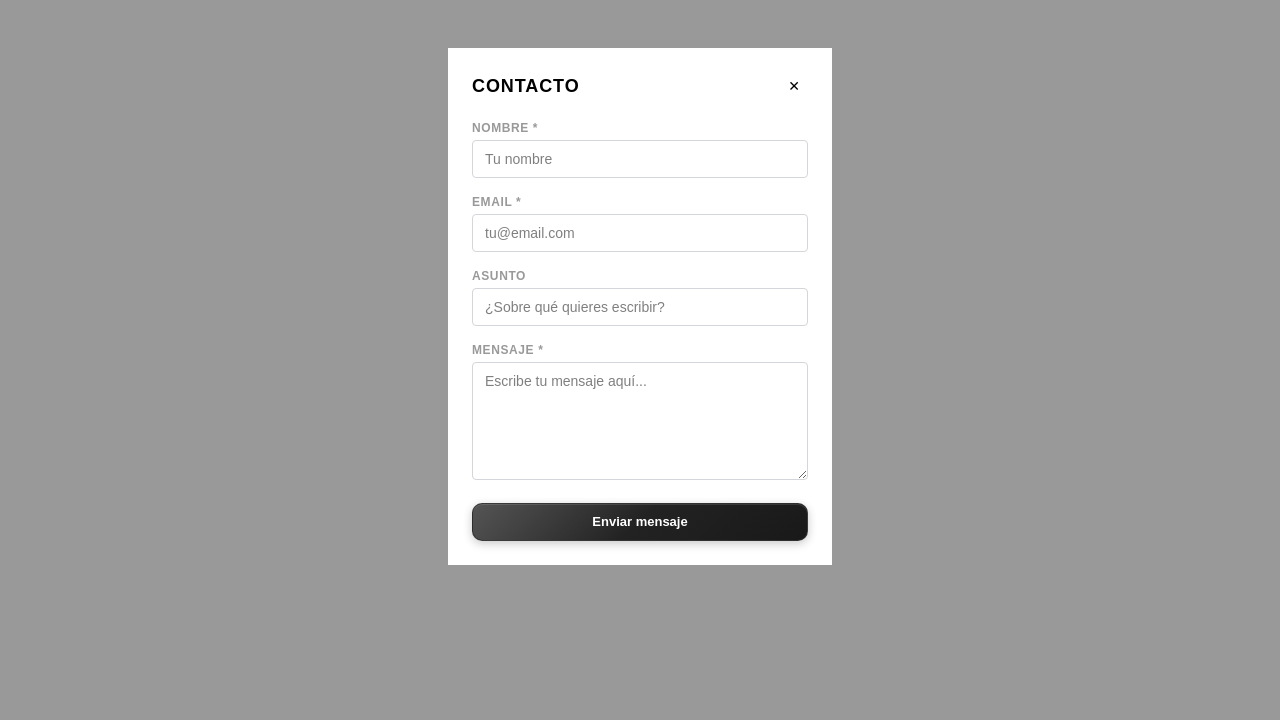
Test case: ContactModal component › shows error message when fetch fails
The width and height of the screenshot is (1280, 720).
Type "Juan Pérez" into the field with placeholder "Tu nombre" at (640, 159), box [472,140,808,178]
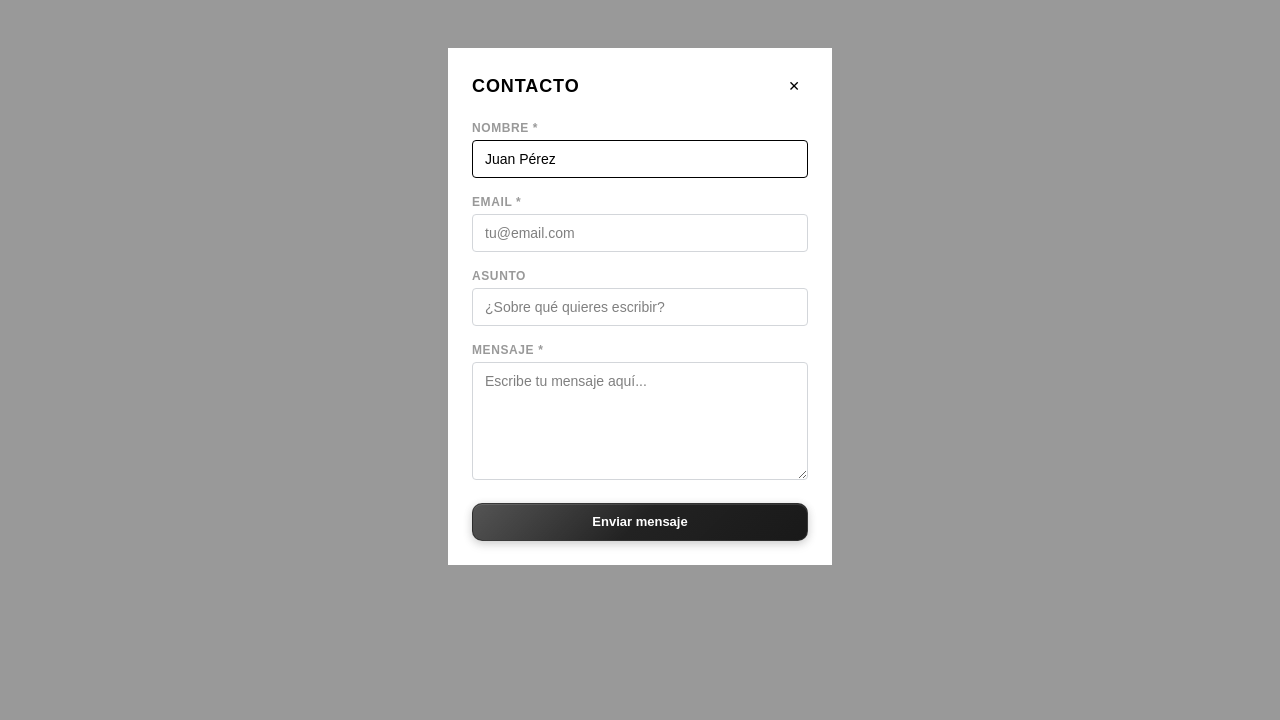
Type "juan@example.com" into the field with placeholder "tu@email.com" at (640, 233), box [472,214,808,252]
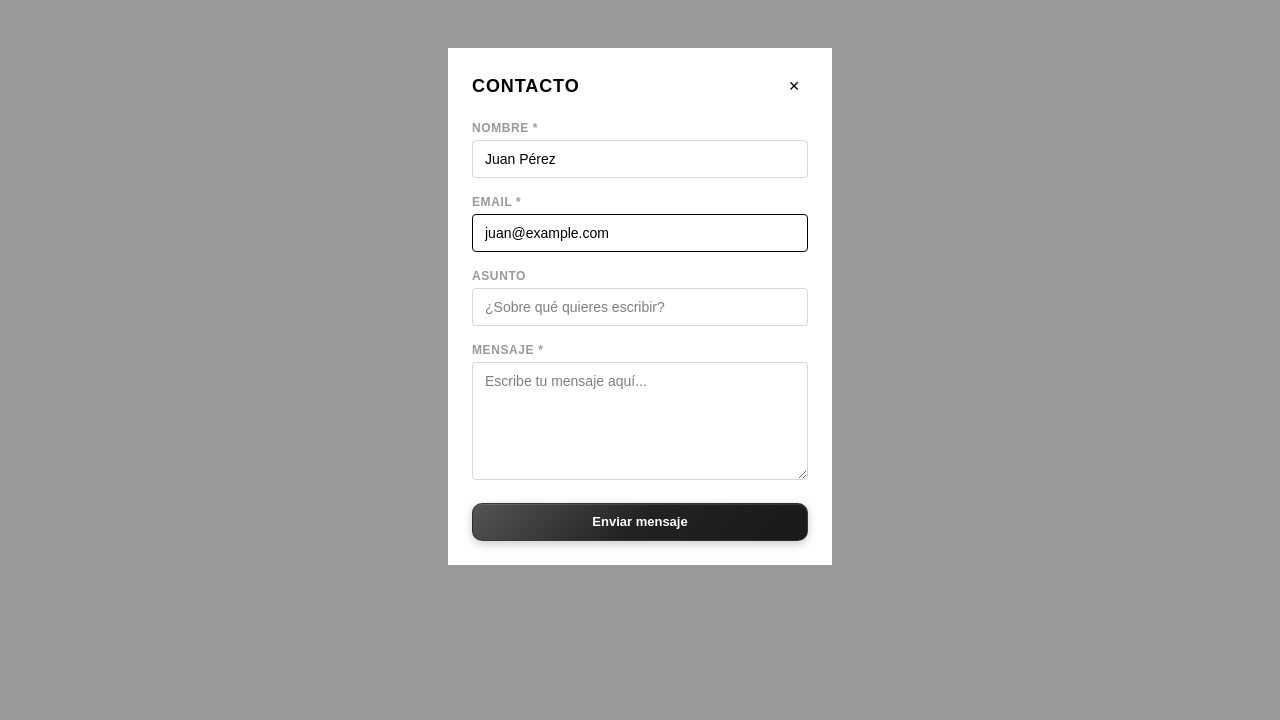
Type "Hola, me gusta el juego. Muy buen trabajo." into the text box with placeholder "Escribe tu mensaje aquí..." at (640, 421), box [472,362,808,480]
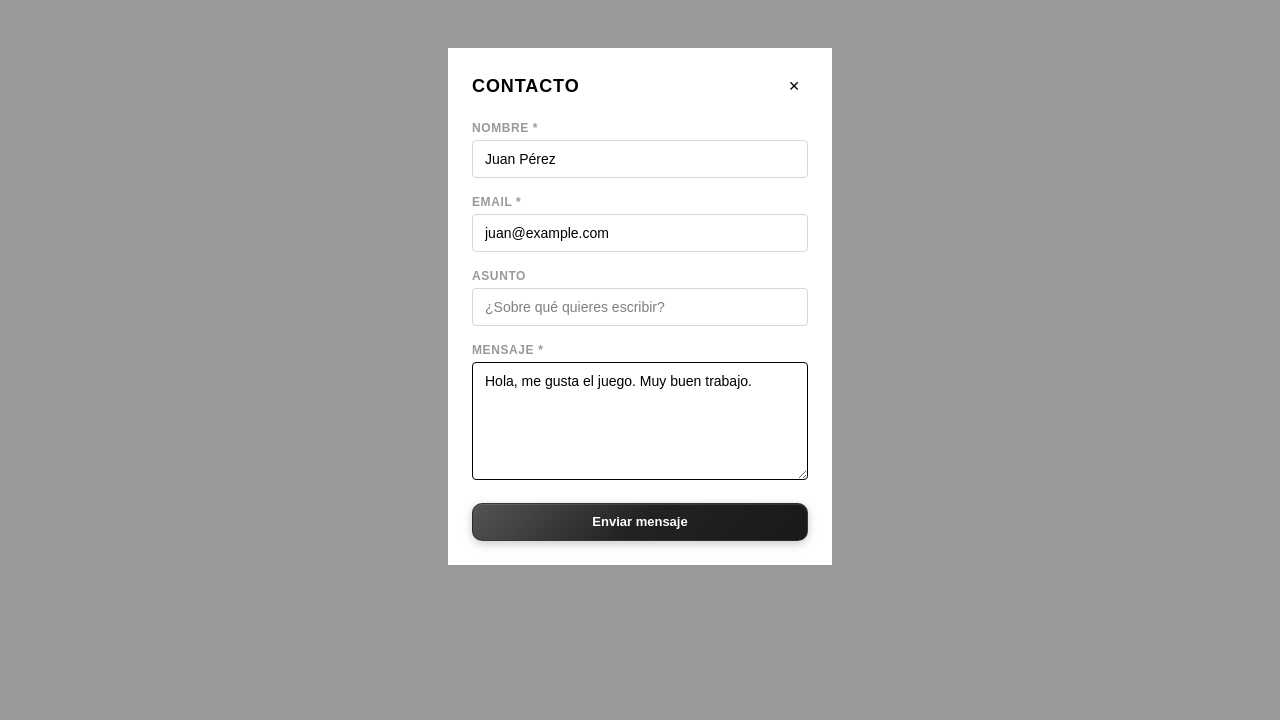
Click the button "Enviar mensaje" at (640, 522), box [472,503,808,540]
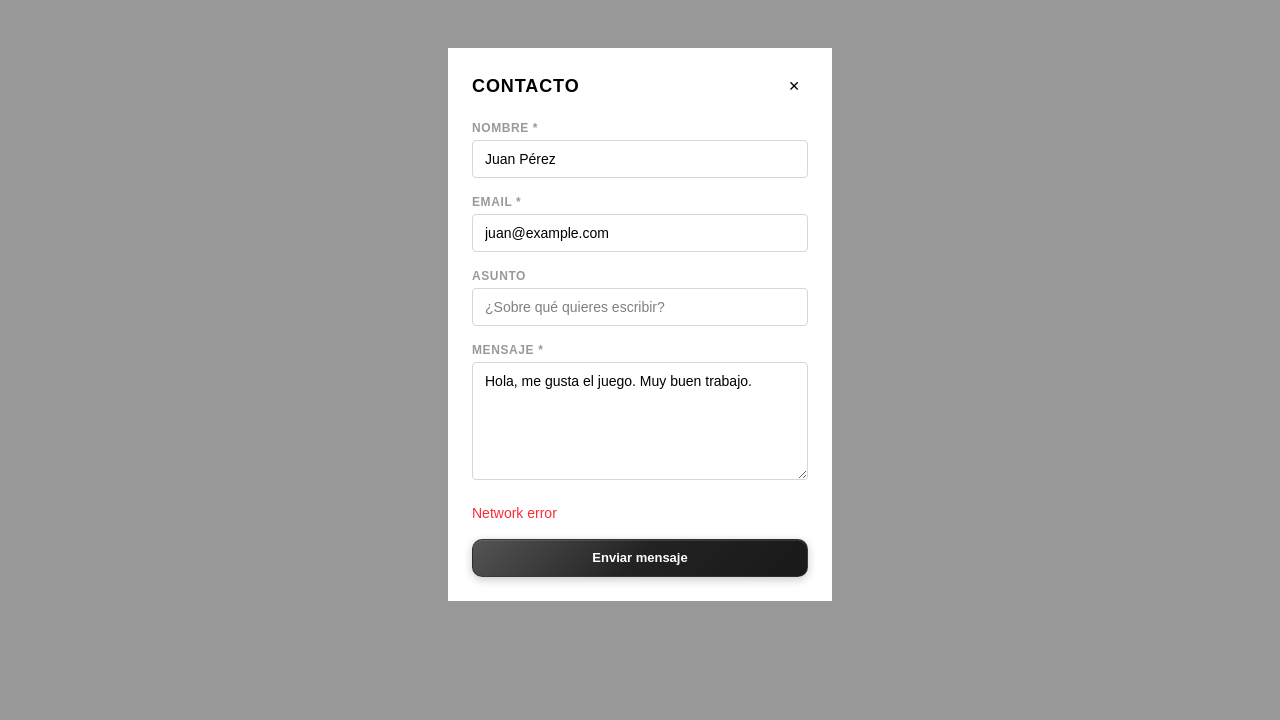
Expected: the text "Network error" is shown, [472,505,557,521]
